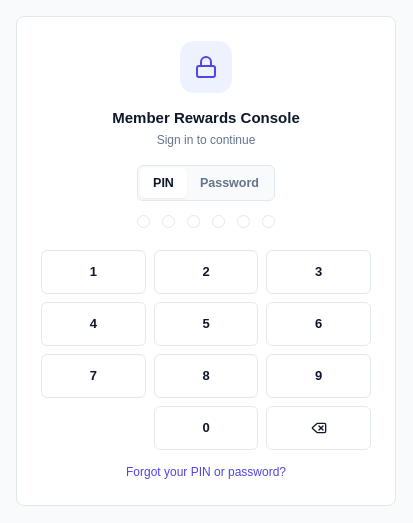
Test case: Login — password mode › keeps Unlock disabled until a password is typed
Click the radio button labelled "Password" at (229, 183), box [200,176,259,190]
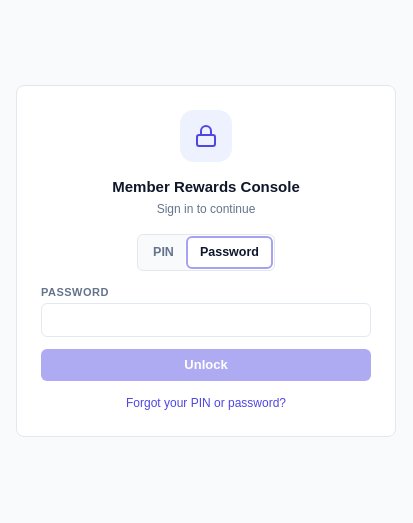
Now the button "Unlock" is disabled, box [41,349,371,381]
